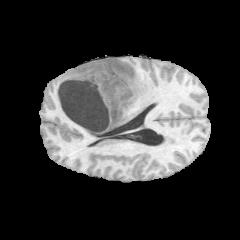glioma: (56, 57, 147, 138)
